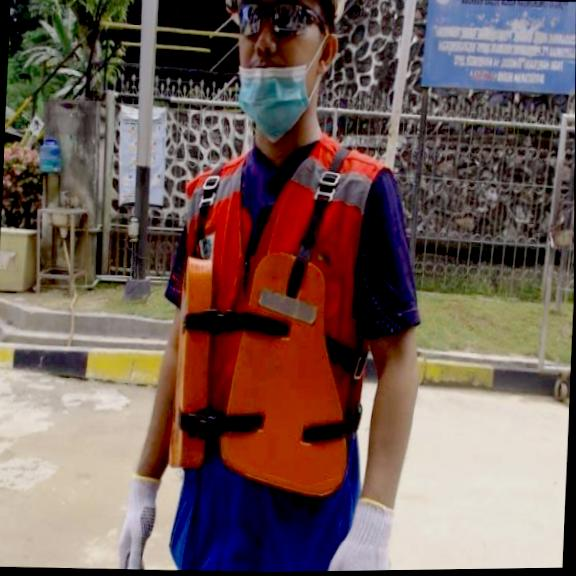safety_vest: (159, 240, 361, 503), (111, 467, 169, 570)
